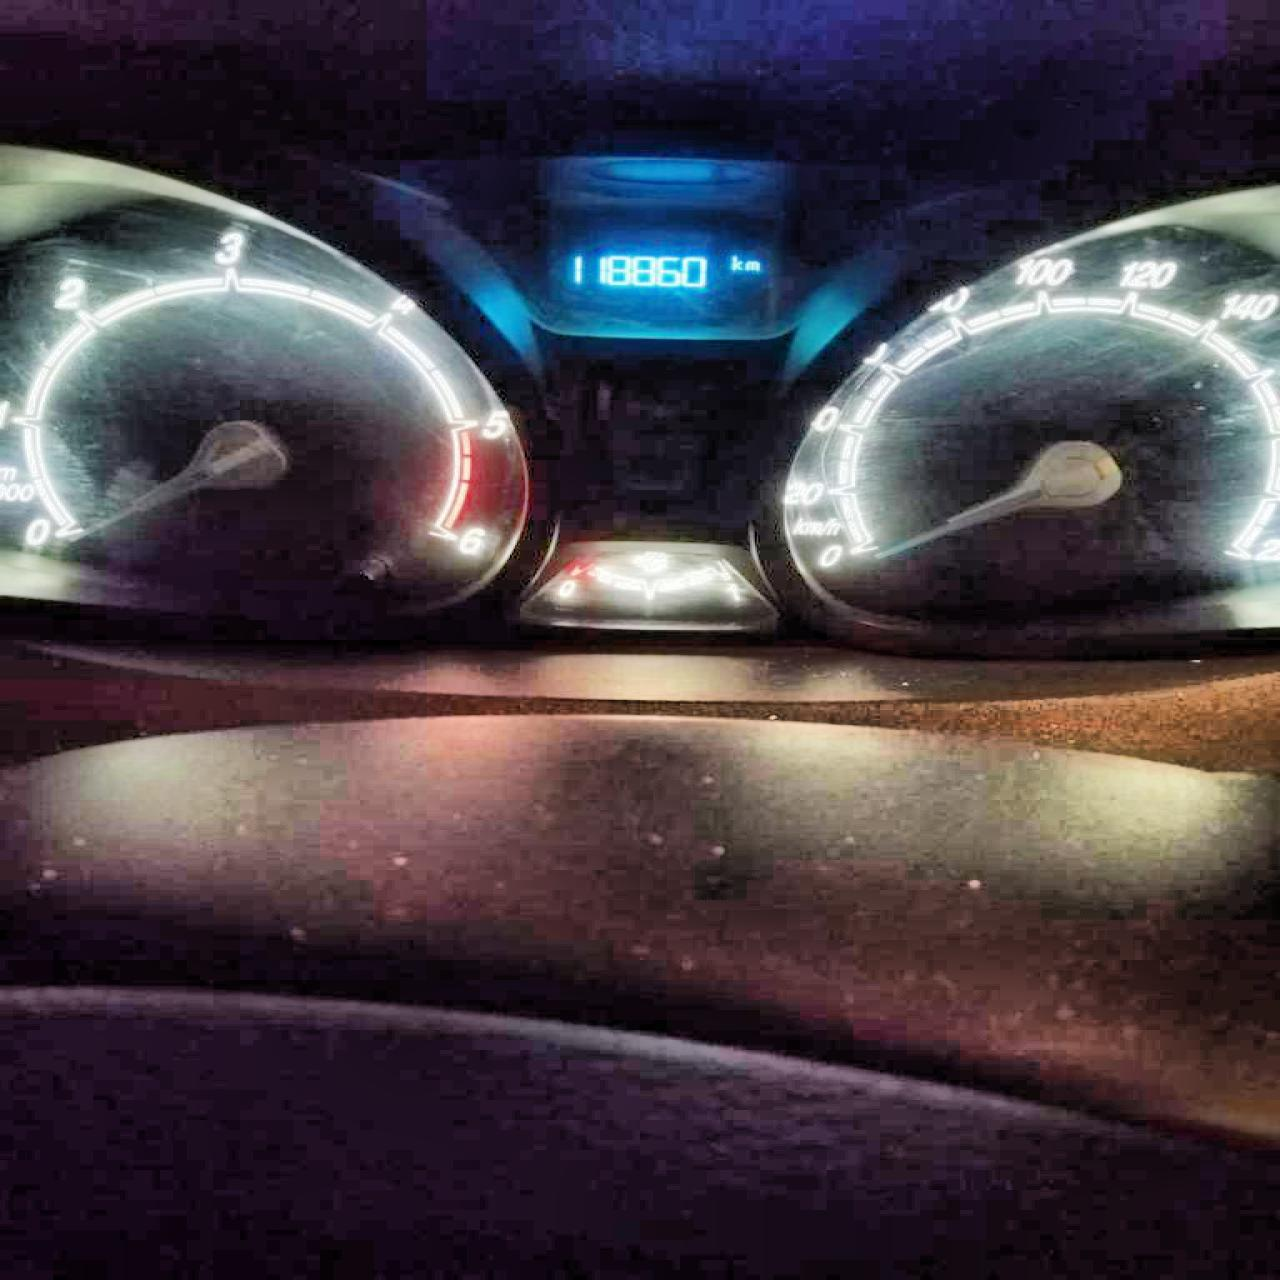0: (680, 256, 704, 286)
1: (570, 254, 581, 284), (597, 256, 605, 282)
6: (655, 256, 680, 285)
8: (629, 256, 655, 285), (605, 254, 629, 285)
X: (728, 254, 742, 270), (743, 259, 760, 270)
odometer: (545, 219, 775, 320)
